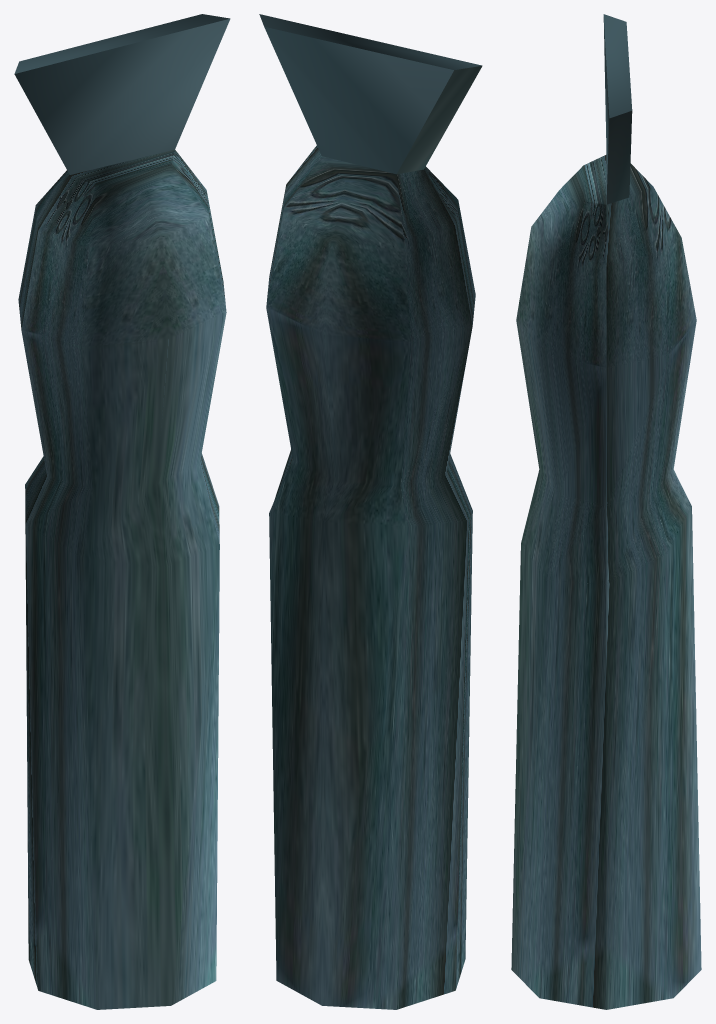
The model's file is tikki3.obj.
The picture shows the model from 3 angles, left to right: view 1: azimuth 30°, elevation 25°; view 2: azimuth 150°, elevation 25°; view 3: azimuth 270°, elevation 25°; orthographic projection. The views are drawn at different scales.
Visible parts, largest first — view 1: tikki3; view 2: tikki3; view 3: tikki3.
Part boxes in pixels (box(x1,y1,x2,y2)): tikki3: box(14, 14, 230, 1009); tikki3: box(259, 14, 482, 1009); tikki3: box(511, 14, 701, 1009).
Bounding box in the file's own units: 6.67 × 26.9 × 5.13.
Materials: 1 (1 with a texture image).
